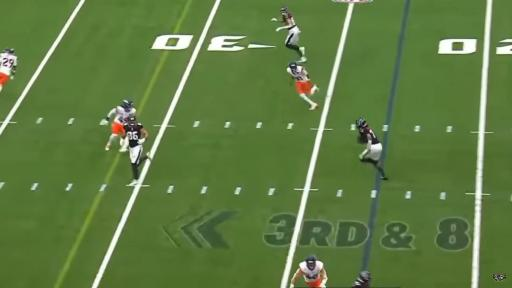Helmet: (359, 272, 370, 283), (306, 256, 315, 269), (356, 118, 367, 128), (123, 100, 133, 108), (128, 117, 136, 127), (6, 48, 14, 54), (279, 8, 287, 14), (291, 63, 297, 70)
Jersey: (299, 261, 323, 282), (124, 123, 143, 147), (109, 107, 135, 124), (0, 53, 17, 75), (359, 127, 379, 144), (287, 66, 309, 81), (283, 14, 296, 29), (352, 279, 369, 287)
Player: (356, 118, 387, 179), (123, 116, 150, 186), (272, 7, 306, 62), (100, 100, 135, 150), (287, 62, 318, 109), (290, 255, 327, 287), (0, 48, 17, 91), (352, 271, 371, 287)
